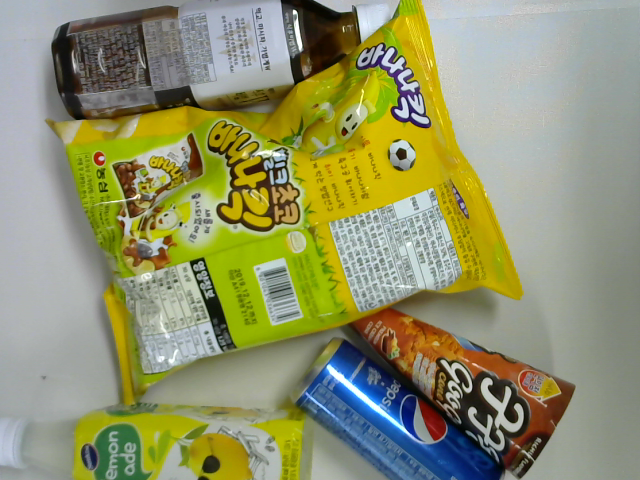Banana_Kick: (43, 1, 524, 407)
GooGoo_Cone_CVS: (343, 305, 576, 476)
Pepsi_Cola_Can_250ml: (295, 339, 506, 480)
Post-meal_recipe_W_tea_500ml: (51, 1, 390, 124)
Sunkist_Lemonaid_Pet: (1, 405, 320, 480)
